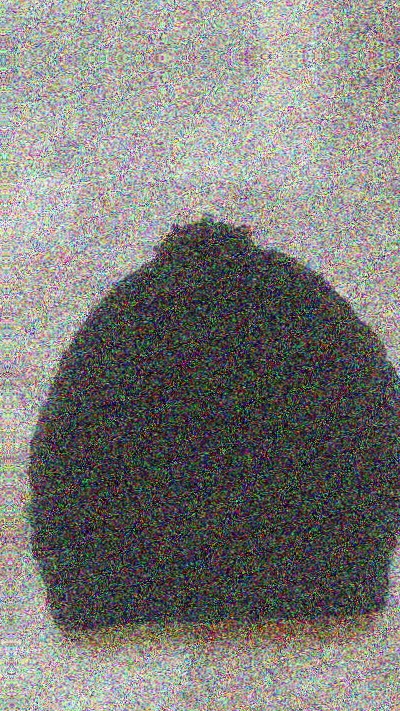Hat: (17, 193, 400, 651)
